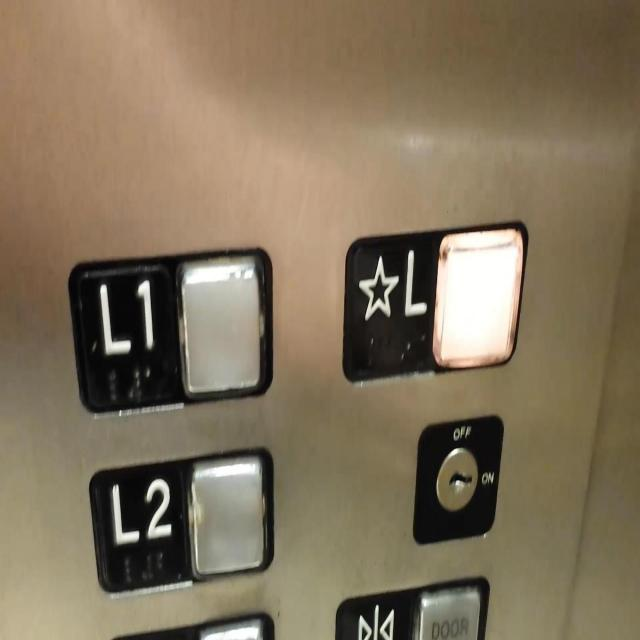L1: (66, 240, 276, 420)
L2: (86, 440, 276, 600)
keyhole: (410, 408, 508, 550)
sL: (340, 216, 531, 387)
